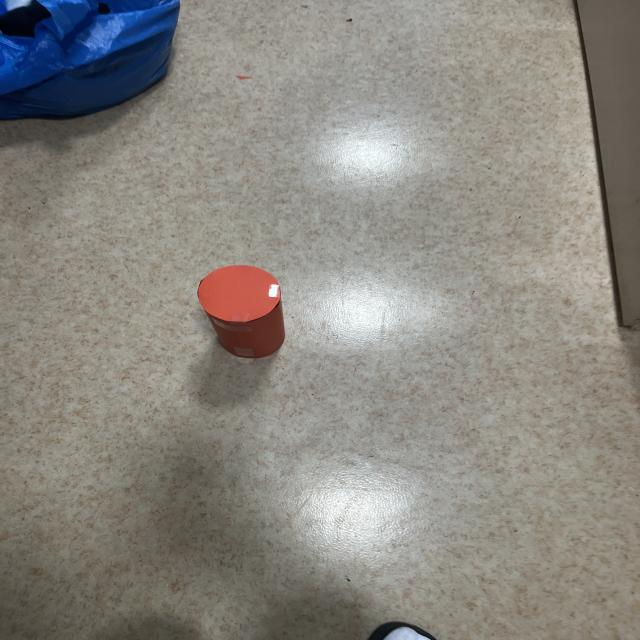przeszkoda: (197, 265, 285, 358)
